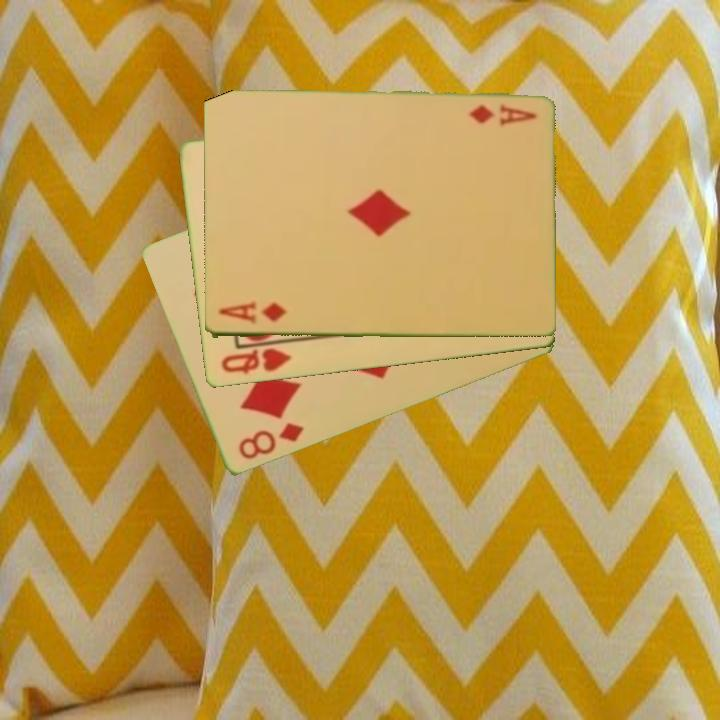8d: (234, 419, 307, 463)
Ad: (215, 299, 289, 327), (465, 100, 539, 127)
Qh: (217, 345, 293, 378)
